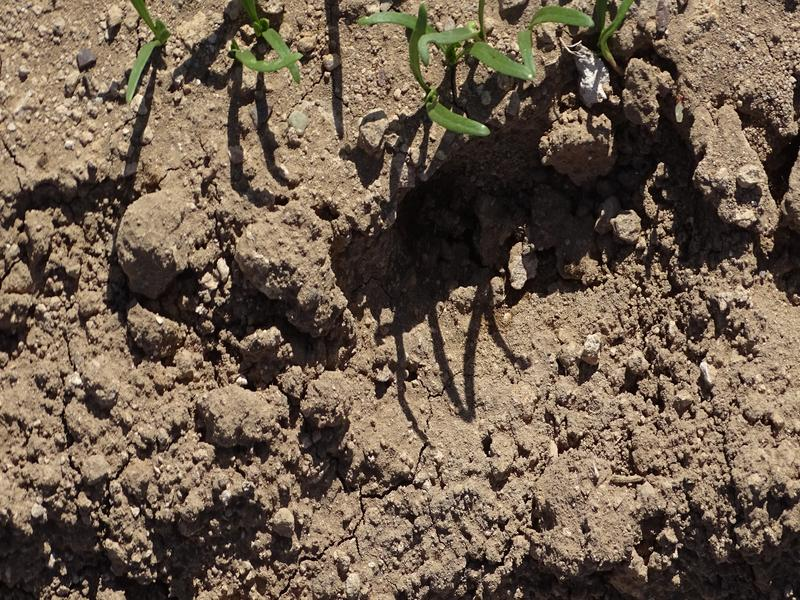Espinaca: (345, 9, 593, 140), (221, 1, 302, 77), (119, 6, 169, 108)
